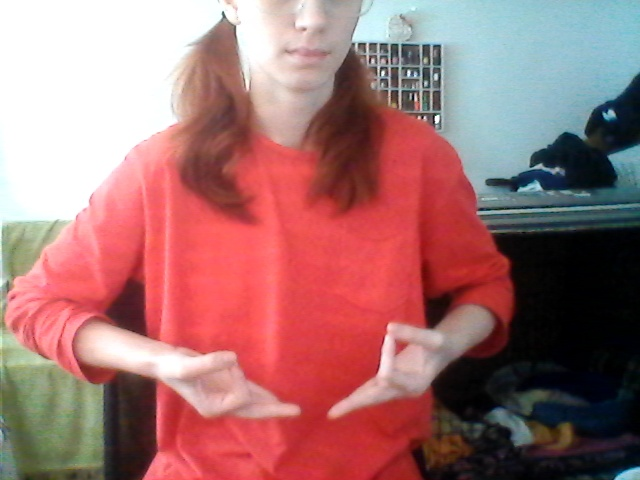preco: (158, 311, 456, 425)
